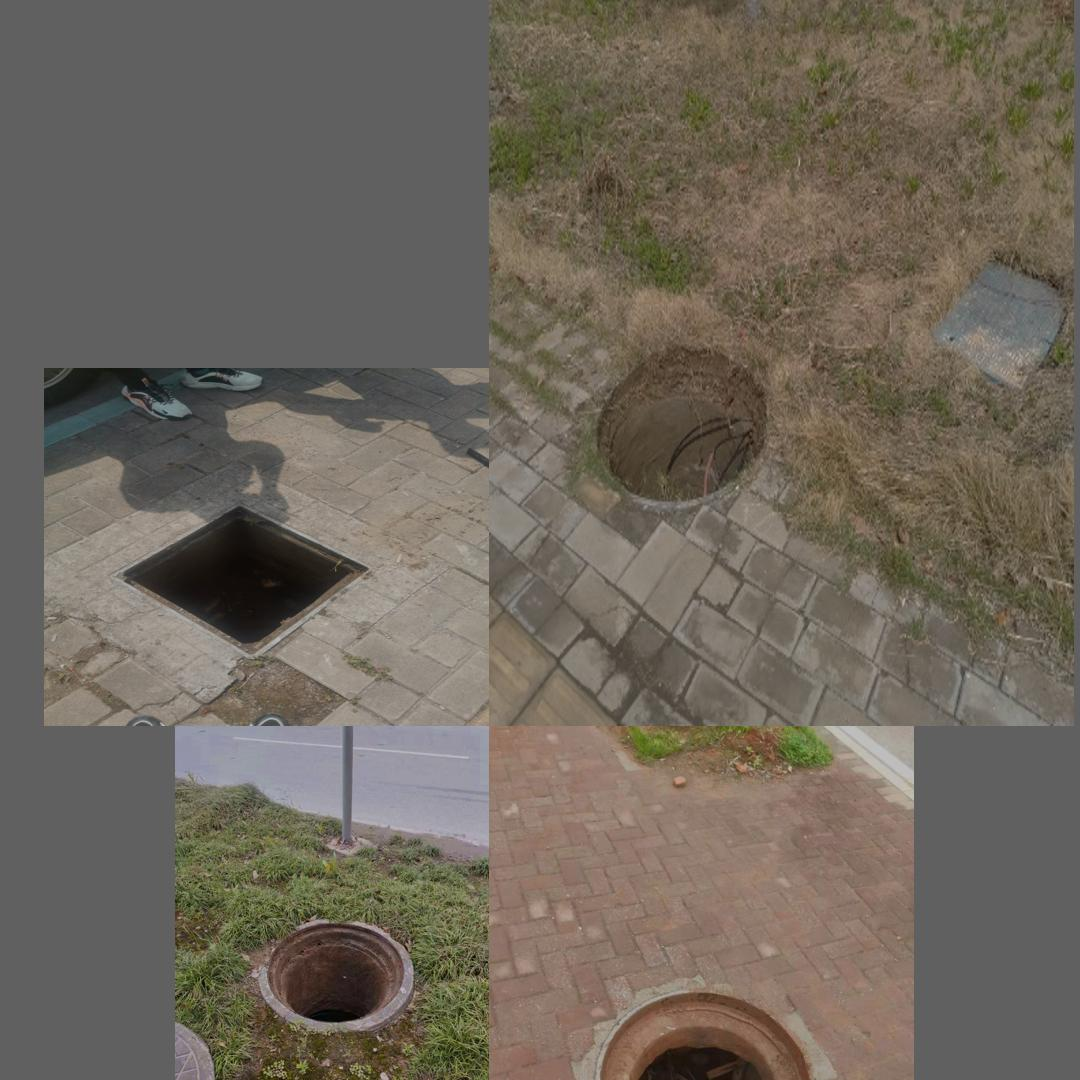lose: (107, 503, 373, 660), (592, 329, 779, 505), (244, 906, 419, 1024), (593, 988, 817, 1080)
